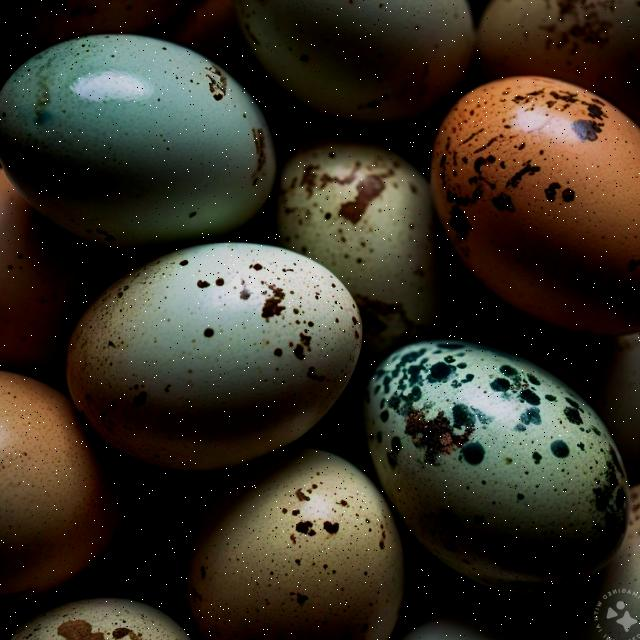Dirt Stained Egg: (75, 231, 372, 465), (371, 328, 640, 584), (423, 71, 640, 333)
